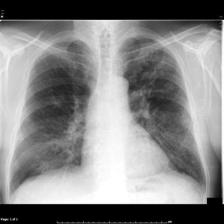tuberculosis: (5, 31, 208, 205)
